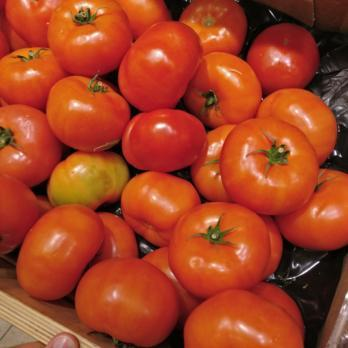Tomato: (0, 0, 333, 268), (67, 224, 325, 348)
